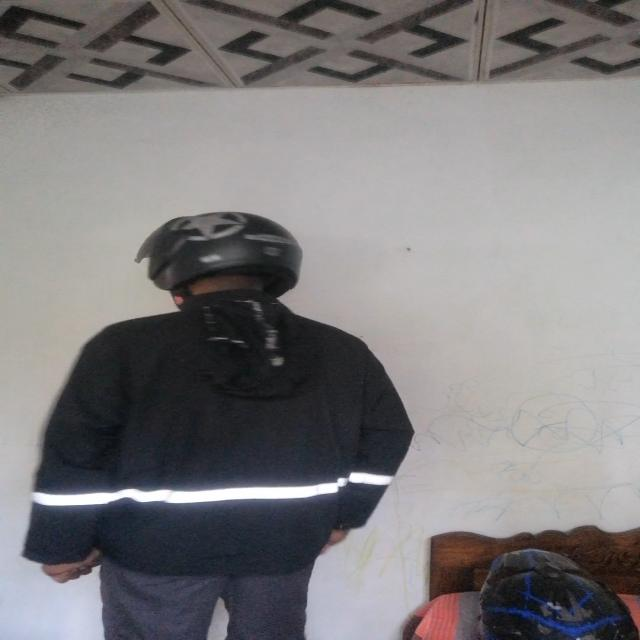Helmet_Wearer: (118, 202, 310, 316)
Jacket_Wearer: (46, 291, 410, 591)
Person: (39, 196, 413, 640)
